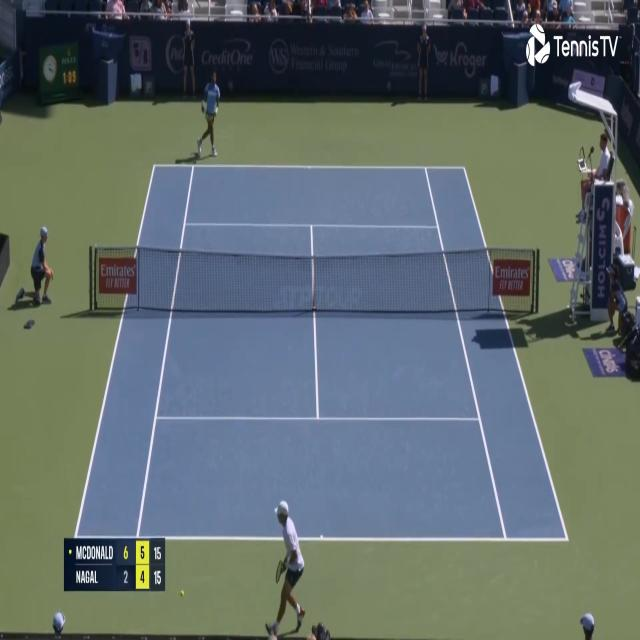tennis-player: (264, 496, 309, 640), (195, 67, 222, 159)
